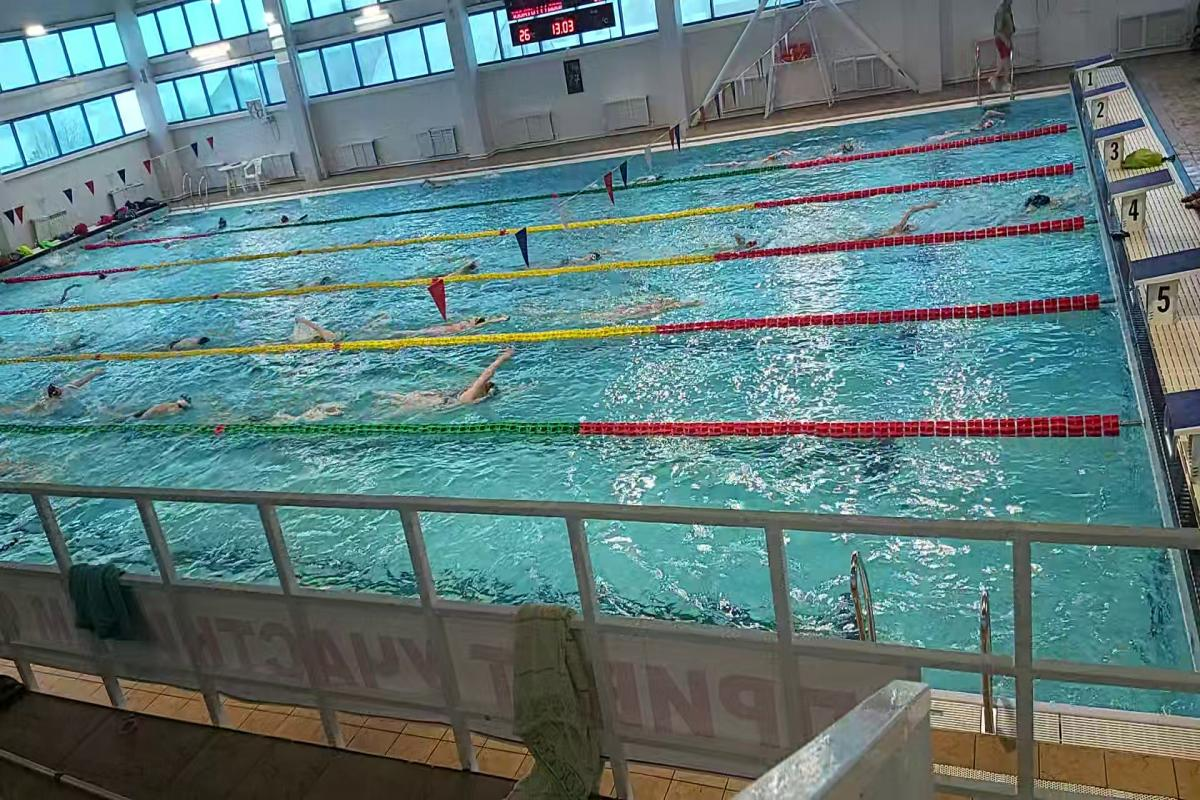swimmer: (361, 348, 527, 414), (599, 286, 711, 326), (24, 360, 109, 410), (114, 380, 204, 421), (422, 301, 512, 342), (284, 308, 352, 344), (1016, 178, 1071, 218), (157, 321, 222, 354), (878, 203, 943, 235), (566, 240, 630, 263)
